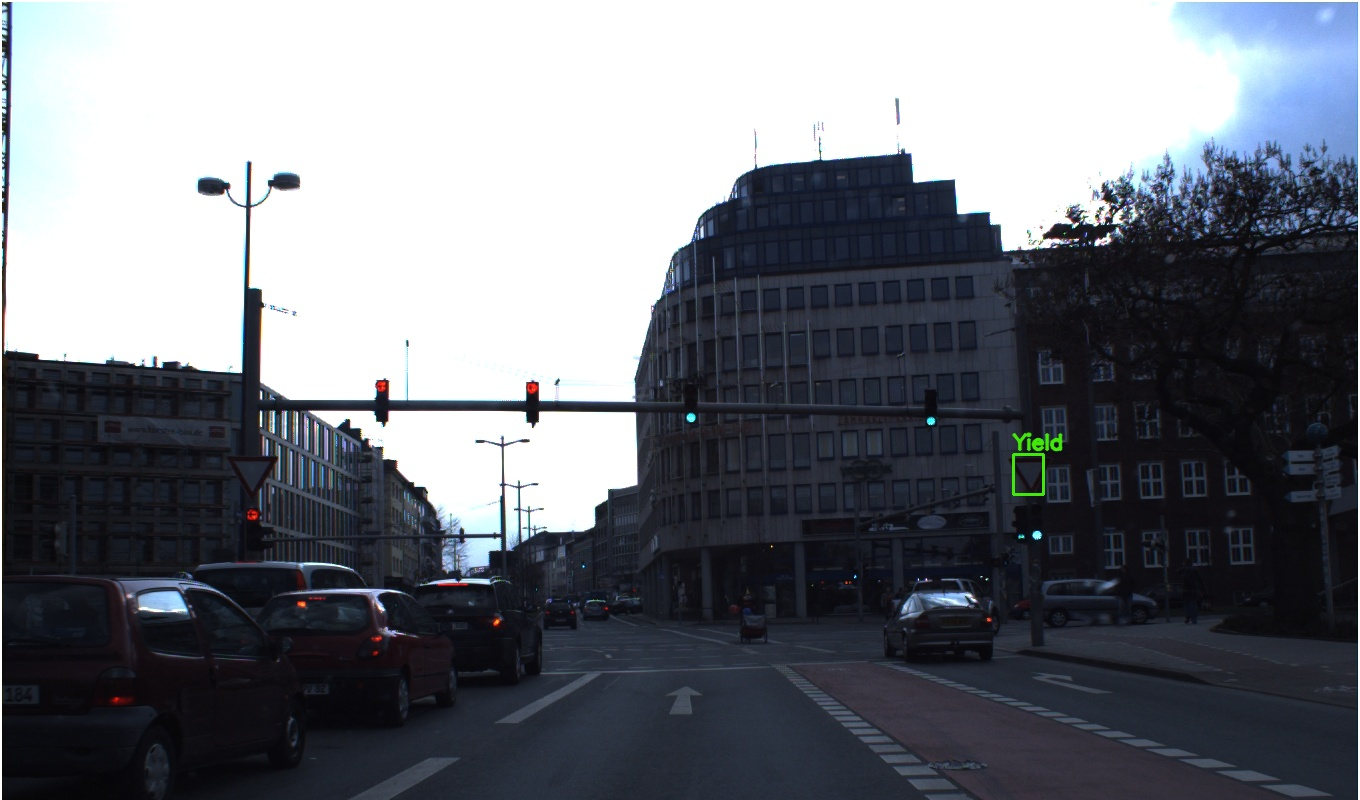End of no passing: (658, 385, 686, 414)
Speed limit (50km/h): (656, 412, 685, 441)
